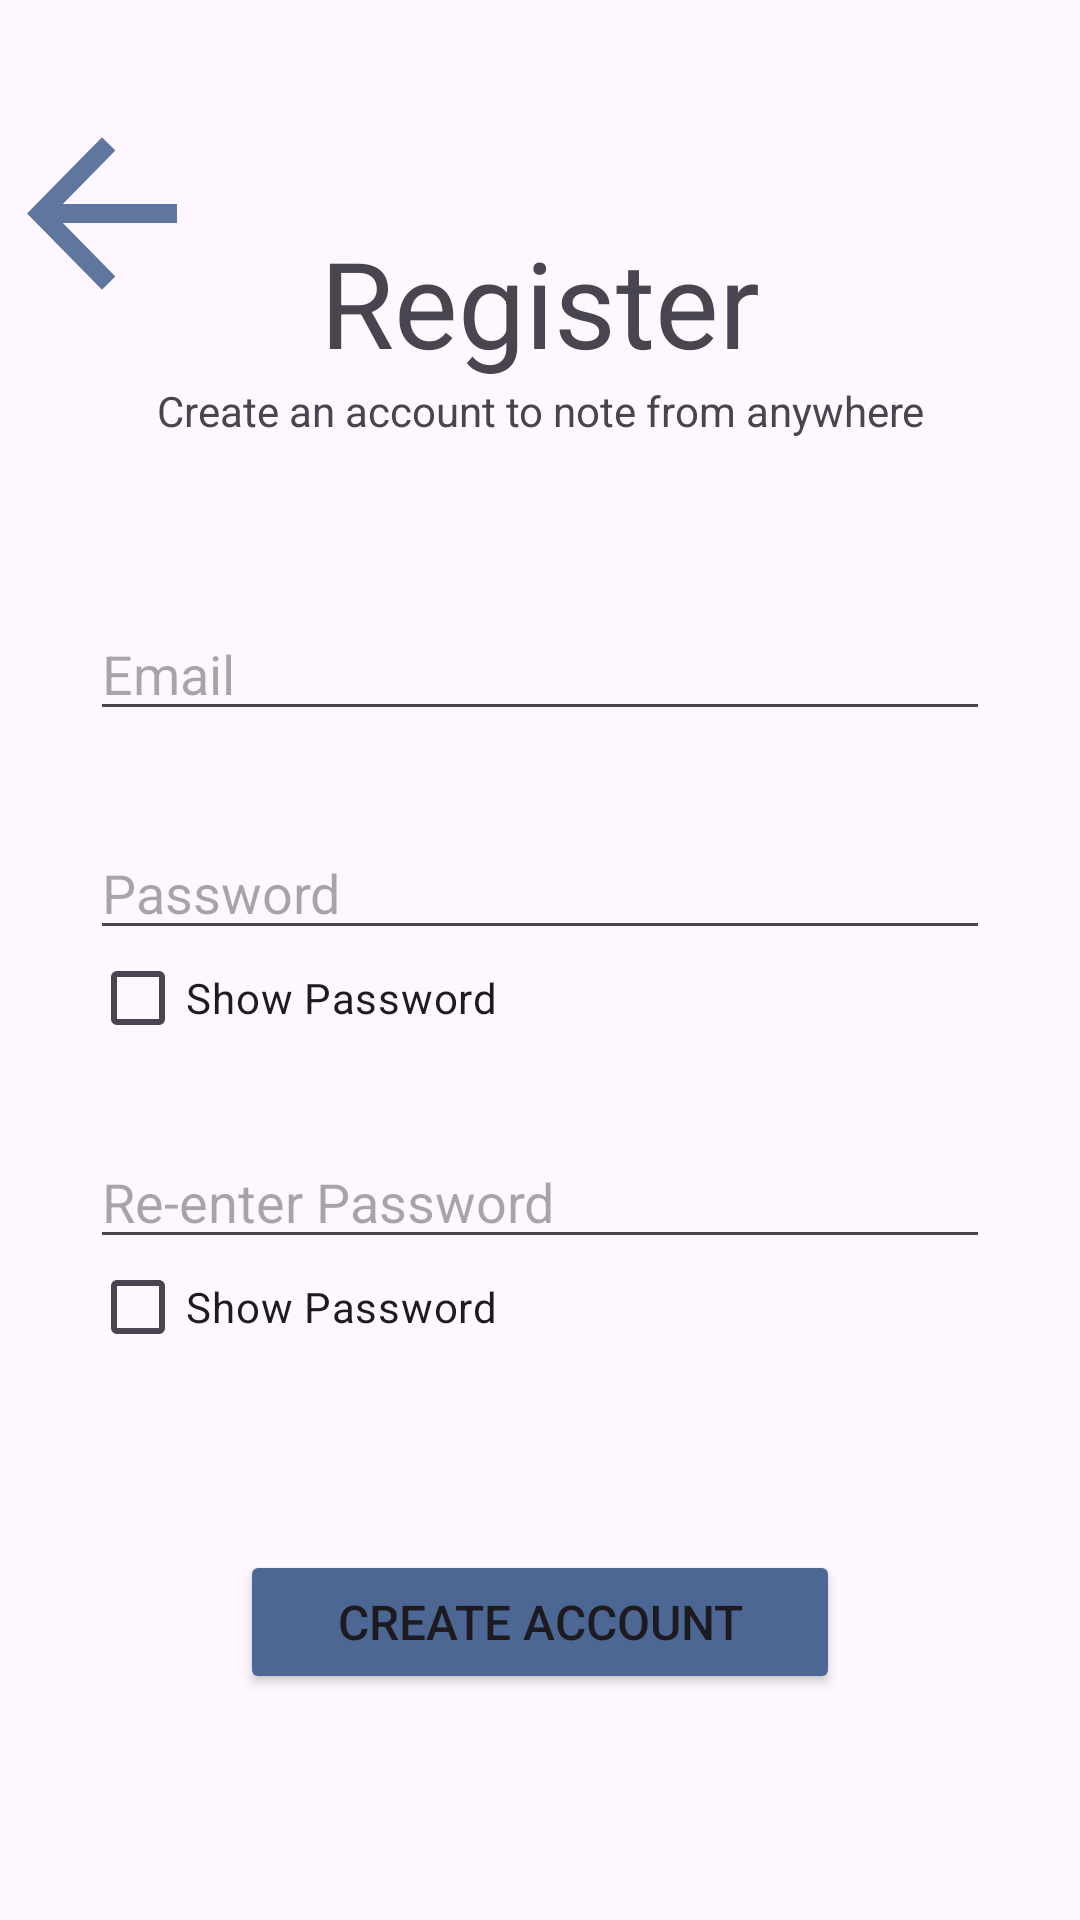

Named icons in this screenshot (1080 x 1920) and their bounding boxes, (x1, y1, x2, y2):
back: (27, 137, 177, 290)
